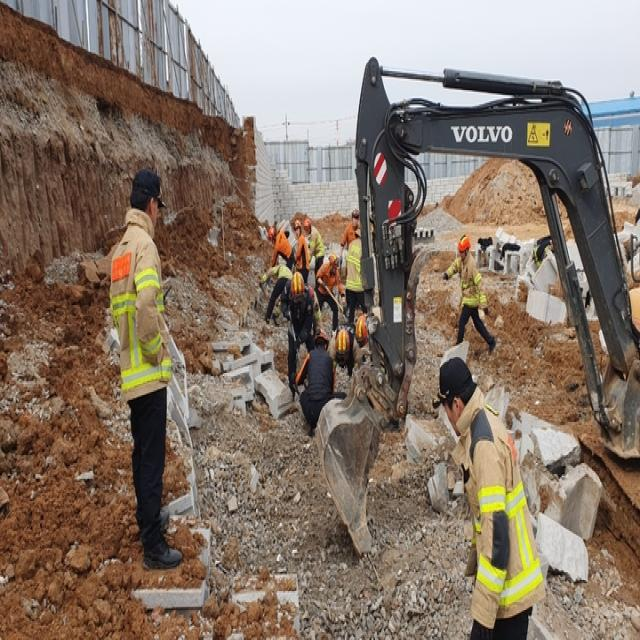machinery: (316, 58, 639, 545)
worker: (433, 343, 542, 640), (112, 164, 186, 574), (442, 231, 498, 367), (285, 332, 340, 433), (262, 254, 298, 335), (286, 268, 323, 340), (285, 210, 316, 286), (344, 236, 368, 328), (317, 245, 345, 323), (260, 226, 296, 281), (302, 205, 326, 272), (334, 206, 362, 251)
